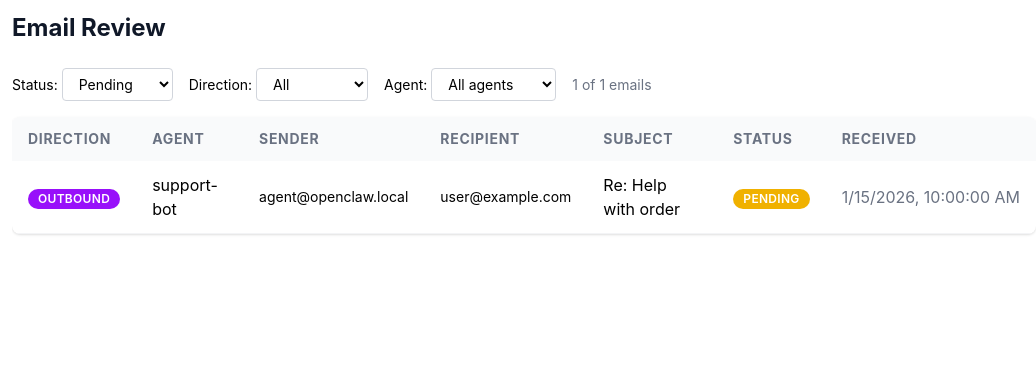
it: EmailReviewPage › shows reviewing state on buttons during mutation
Click the text "Re: Help with order" at (652, 197), box [587, 161, 717, 234]
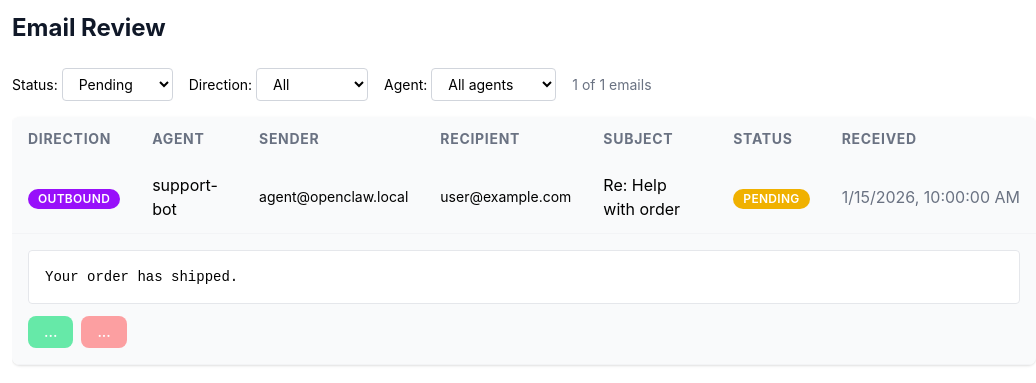
Expected: the number of buttons "..." is 2, [28, 316, 73, 348]; [81, 316, 127, 348]
